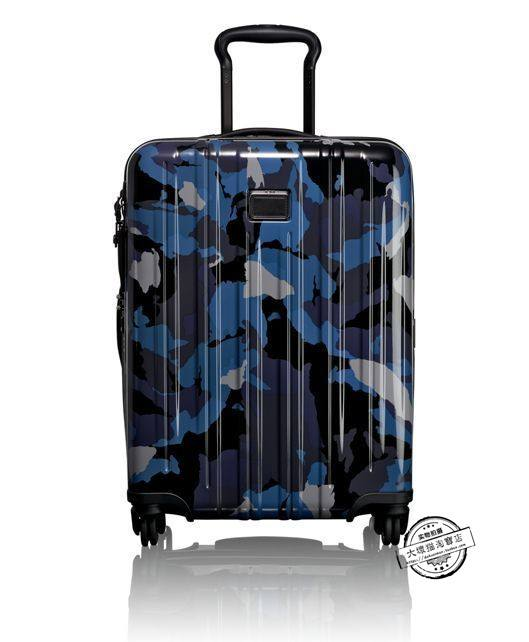box: (124, 138, 413, 520)
handle: (205, 128, 319, 138)
wheel: (130, 509, 165, 547), (373, 515, 408, 546)
